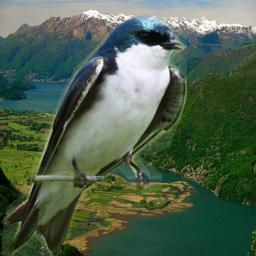Swallow: (1, 14, 187, 256)
